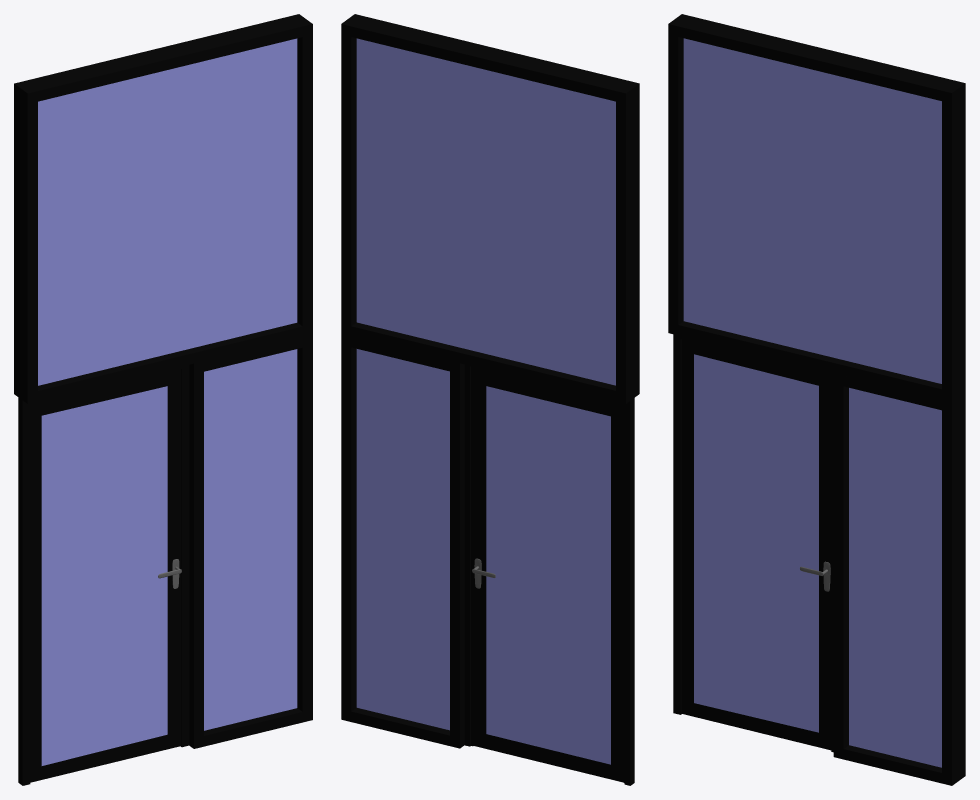
File: door-glass-narrow.fbx
3 renders of one model, left to right at view 1: azimuth 30°, elevation 25°; view 2: azimuth 150°, elevation 25°; view 3: azimuth 330°, elevation 25°, orthographic.
Visible parts, largest first — view 1: door-plate-head-glass.001, Panel.002, door-plate-head-frame.001, GlassDoor.001; view 2: door-plate-head-glass.001, Panel.002, door-plate-head-frame.001, GlassDoor.001; view 3: door-plate-head-glass.001, Panel.002, door-plate-head-frame.001, GlassDoor.001.
Boxes of the visible parts, box(x1,y1,x2,y2) form: door-plate-head-glass.001: box(38, 38, 297, 730); Panel.002: box(30, 369, 180, 782); door-plate-head-frame.001: box(14, 14, 312, 748); GlassDoor.001: box(18, 365, 189, 785); door-plate-head-glass.001: box(356, 38, 615, 730); Panel.002: box(473, 368, 623, 782); door-plate-head-frame.001: box(341, 14, 639, 748); GlassDoor.001: box(464, 364, 634, 785); door-plate-head-glass.001: box(683, 38, 941, 767); Panel.002: box(681, 339, 831, 750); door-plate-head-frame.001: box(668, 14, 965, 785); GlassDoor.001: box(673, 334, 833, 752).
Size of the model in its own units: 120 by 280 by 10.01.
